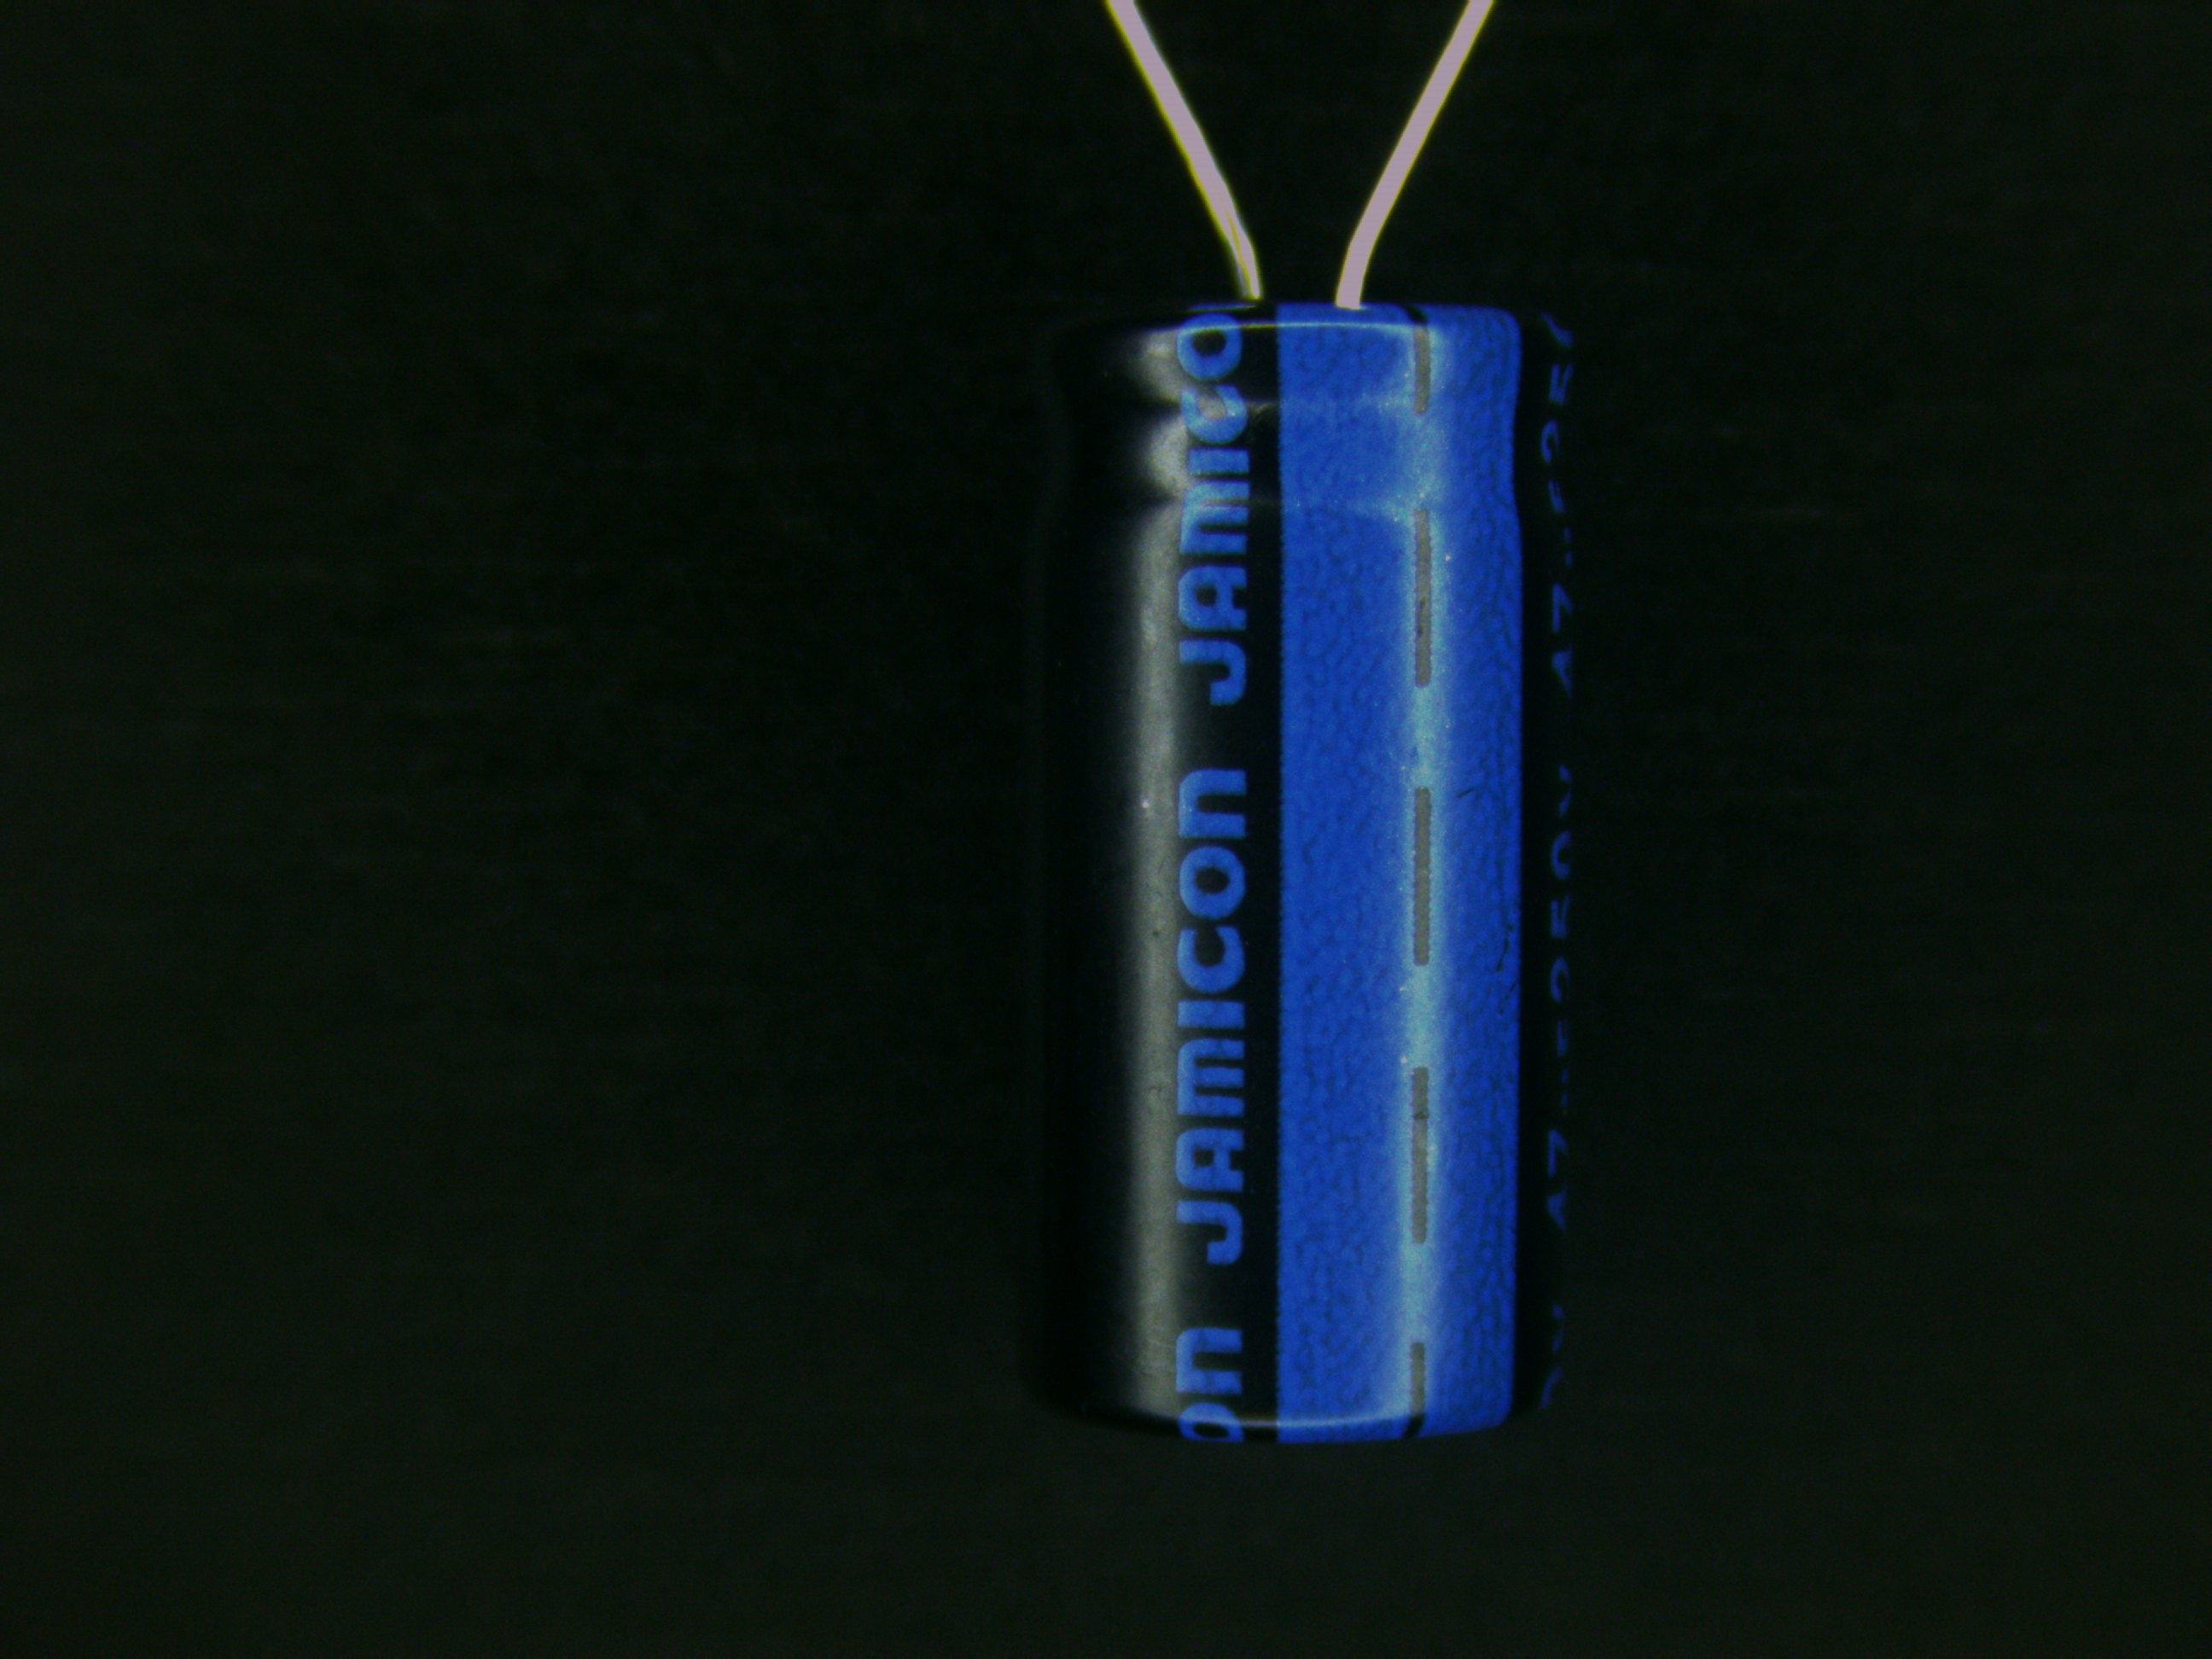c2: (1017, 181, 1583, 1450)
